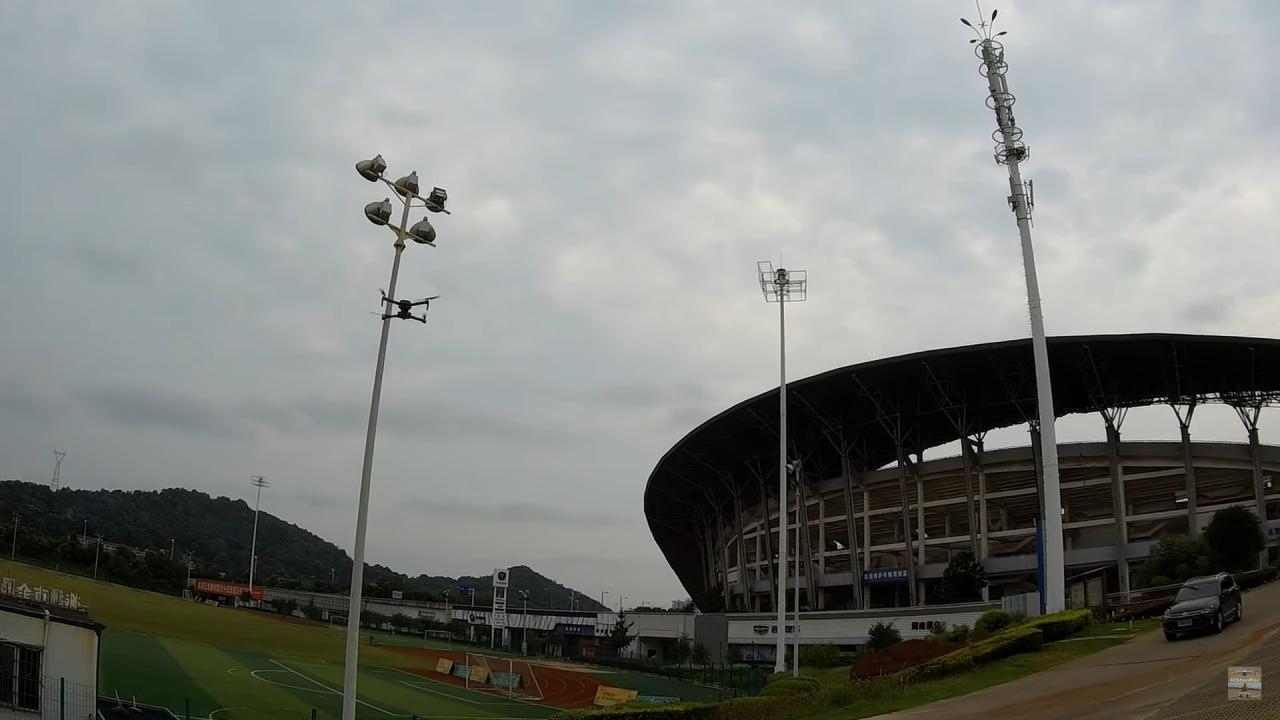Drone: (369, 278, 444, 334)
